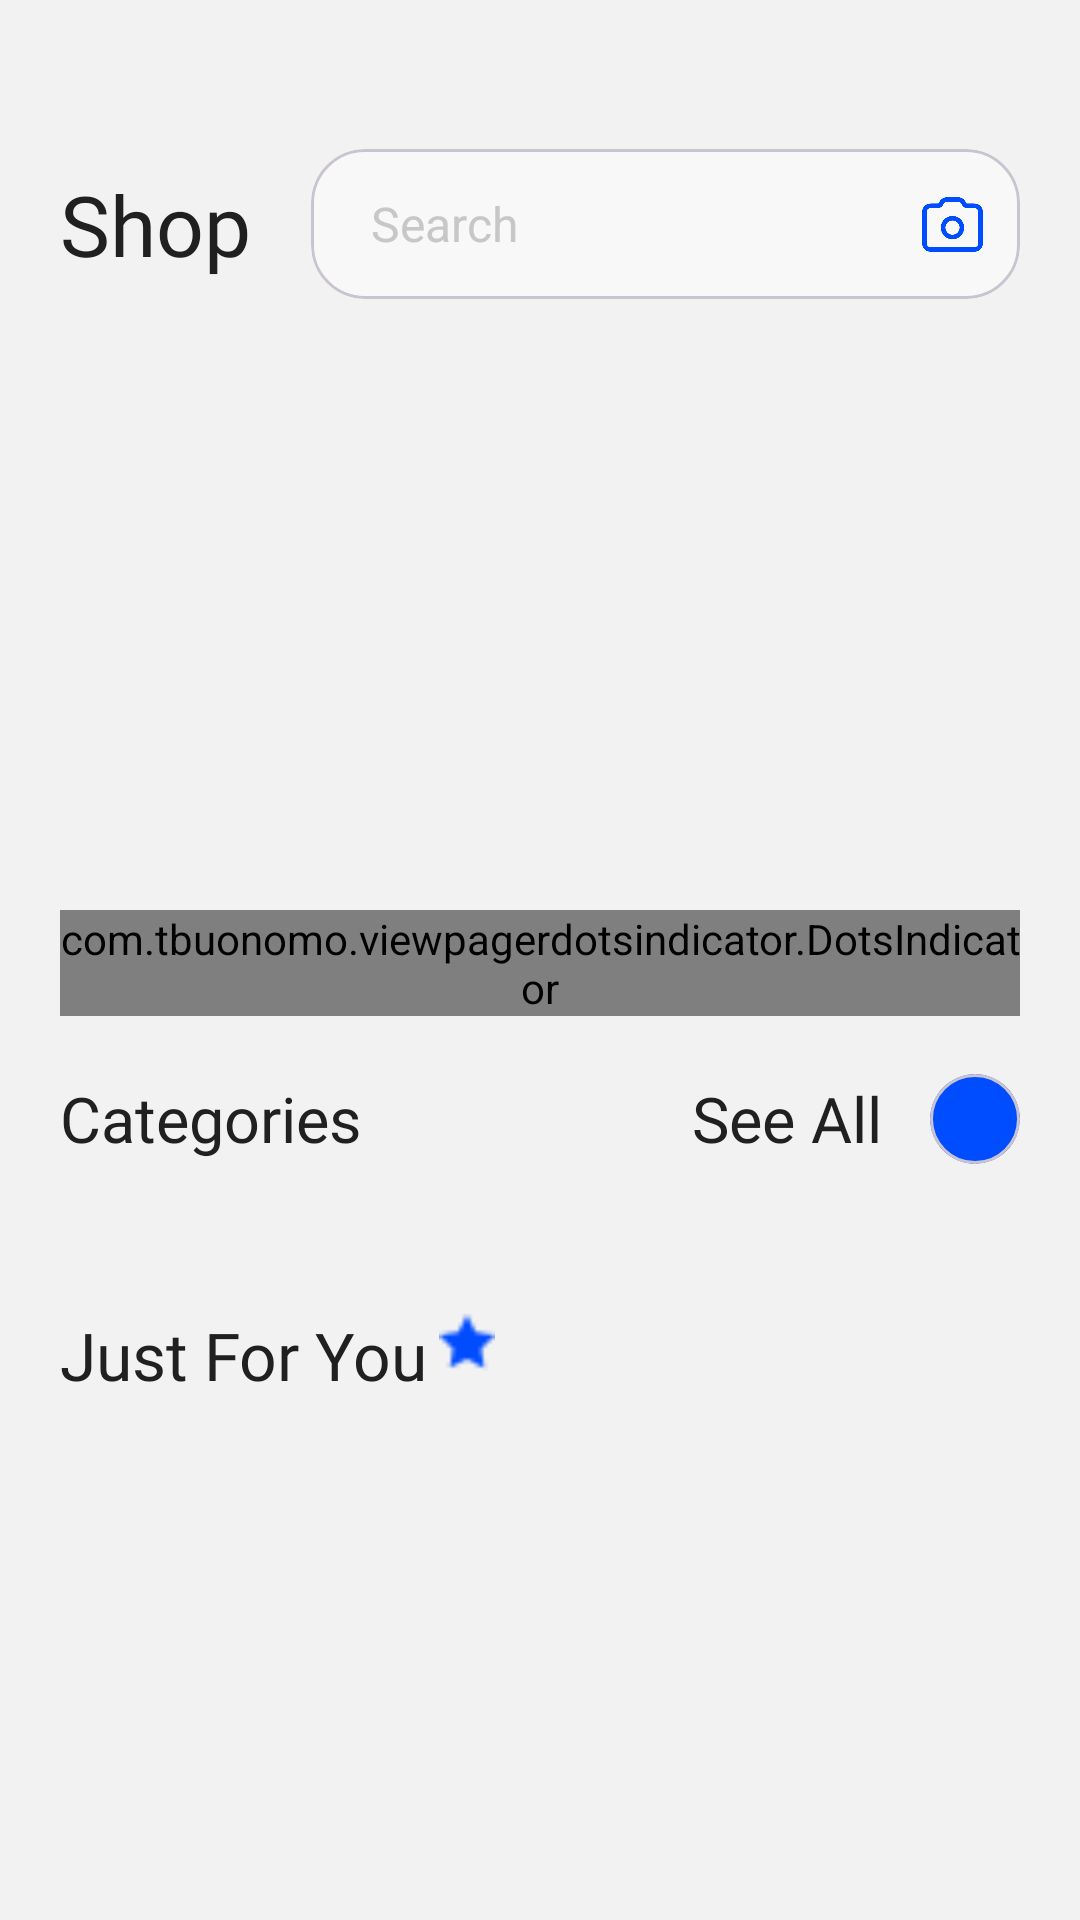

Where to tap for icons on this 1080w x 1920h app screen, as (x,y):
staricon: (467,1342)
